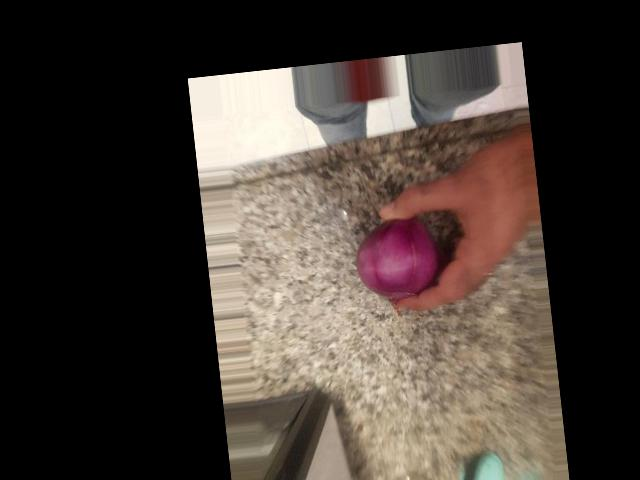onion: (257, 290, 351, 382)
